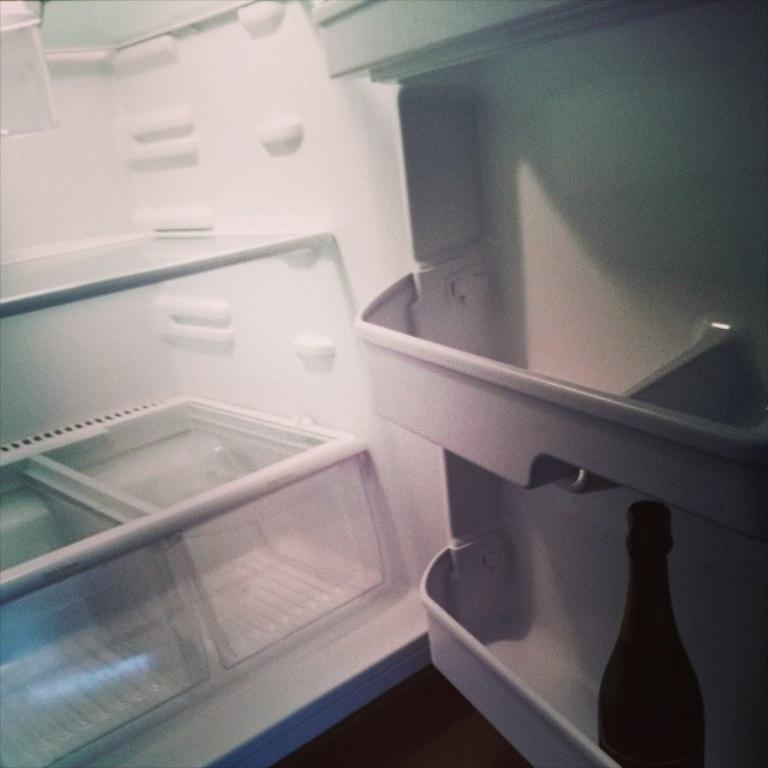refrigerator door: (440, 50, 768, 768)
